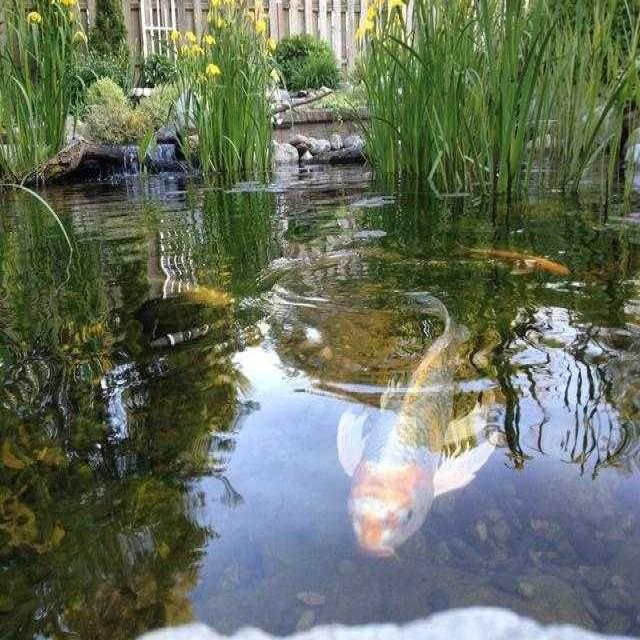Ponds: (4, 104, 640, 640)
